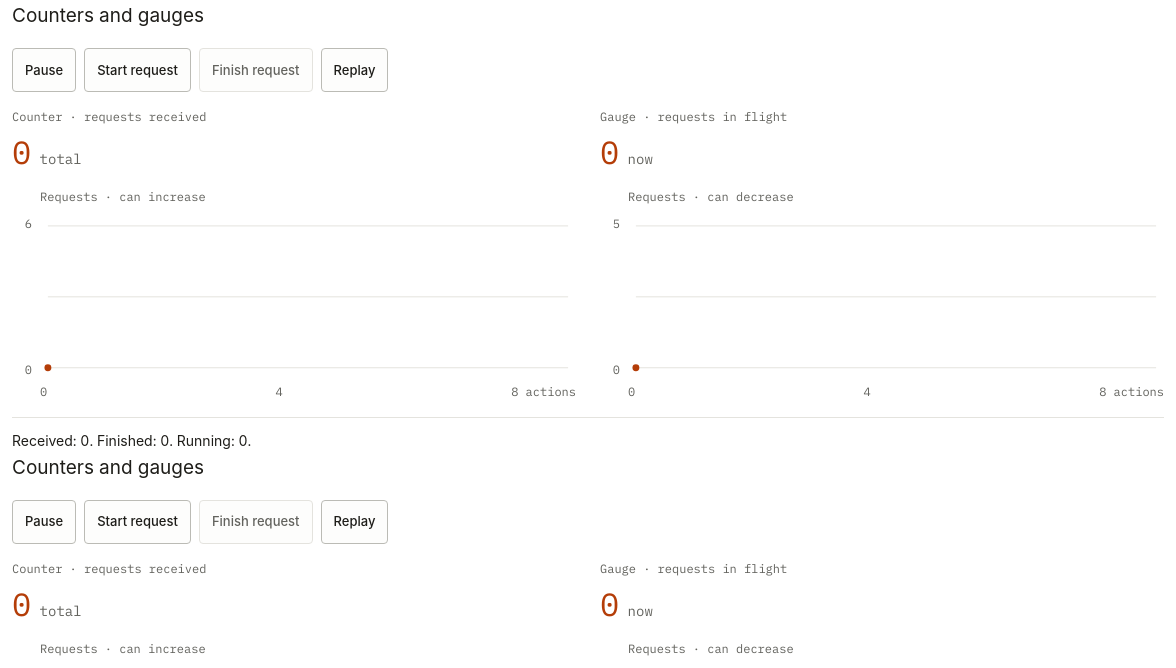
Test: Prometheus 2D workbenches › lowers the gauge without lowering the counter and resets one instance independently
Click the 1st button "Start request": coordinates (138, 70) [84,48,191,92]
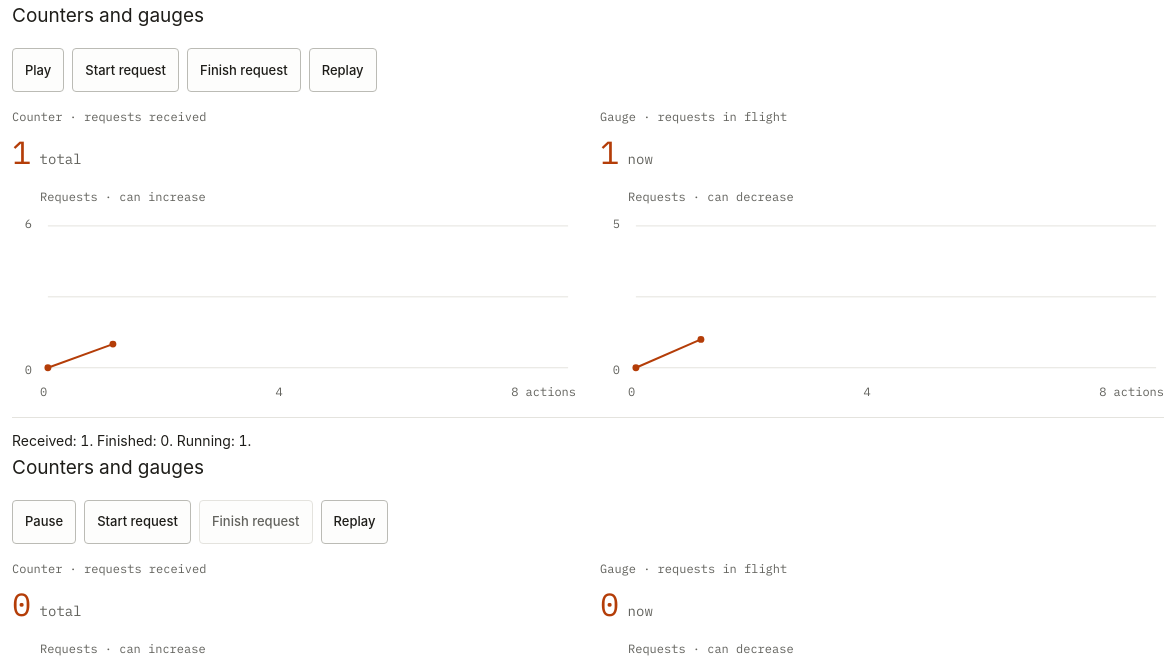
Click the 1st button "Finish request": coordinates (244, 70) [187,48,301,92]
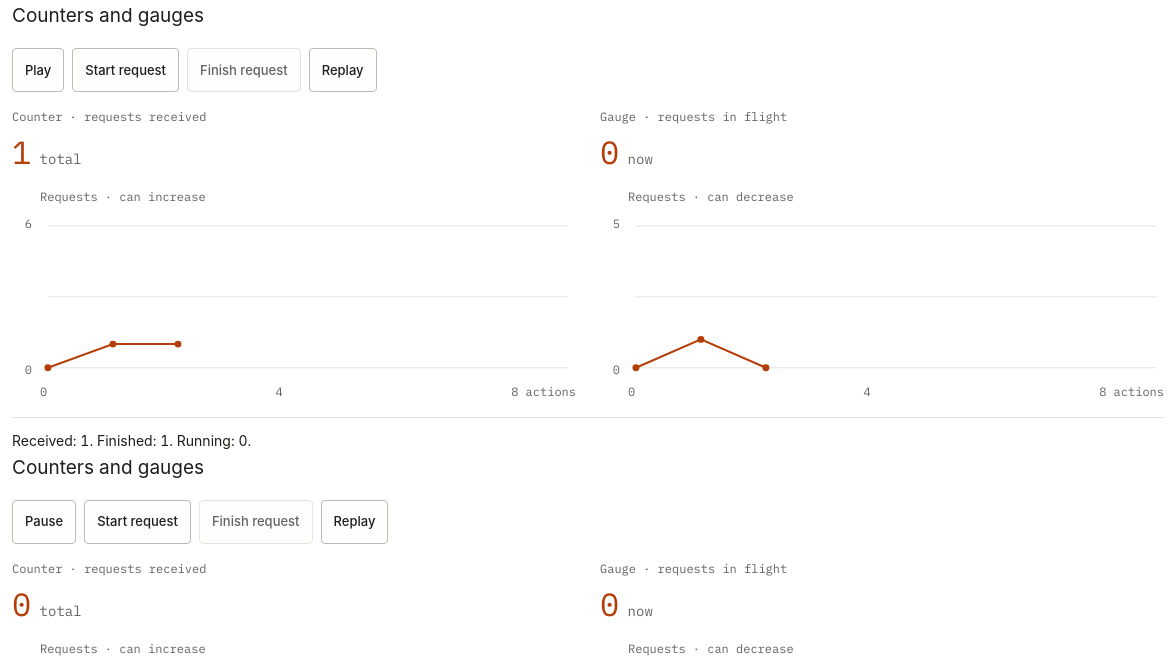
Expected: the message "Received: 1. Finished: 1. Running: 0." is shown, [12,417,1164,452]
Click the button with aria-label "Reset counters and gauges": coordinates (343, 70) [309,48,377,92]
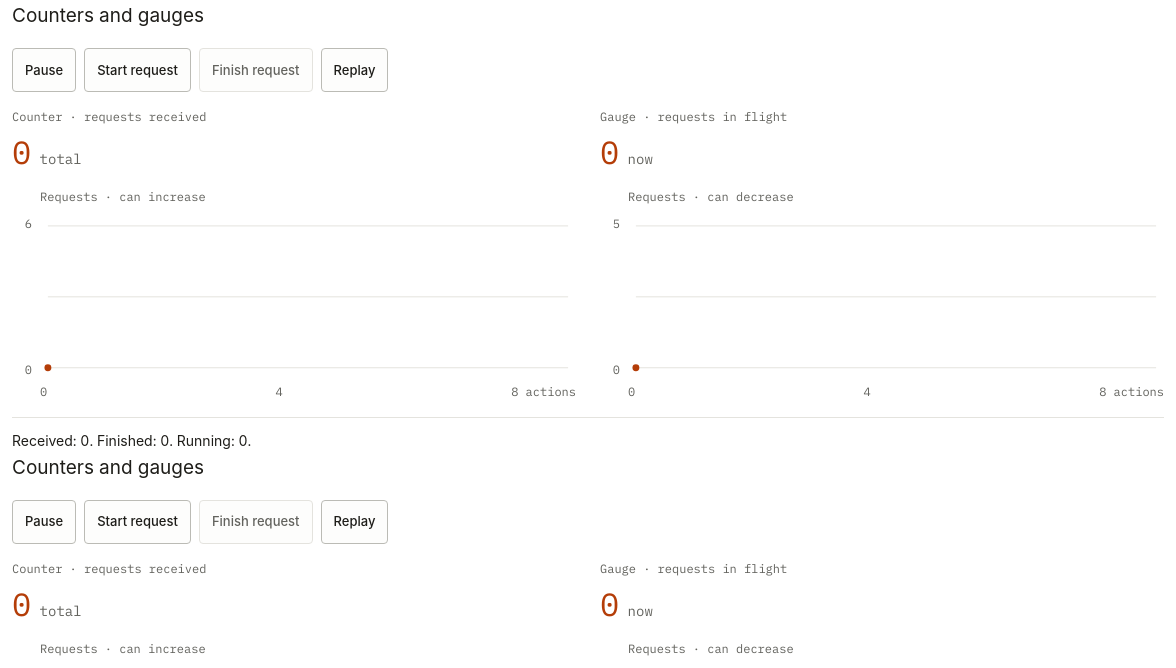
Expected: the 1st button "Finish request" is disabled, [199,48,313,92]
Expected: the message "Received: 0. Finished: 0. Running: 0." is shown, [12,417,1164,452]
